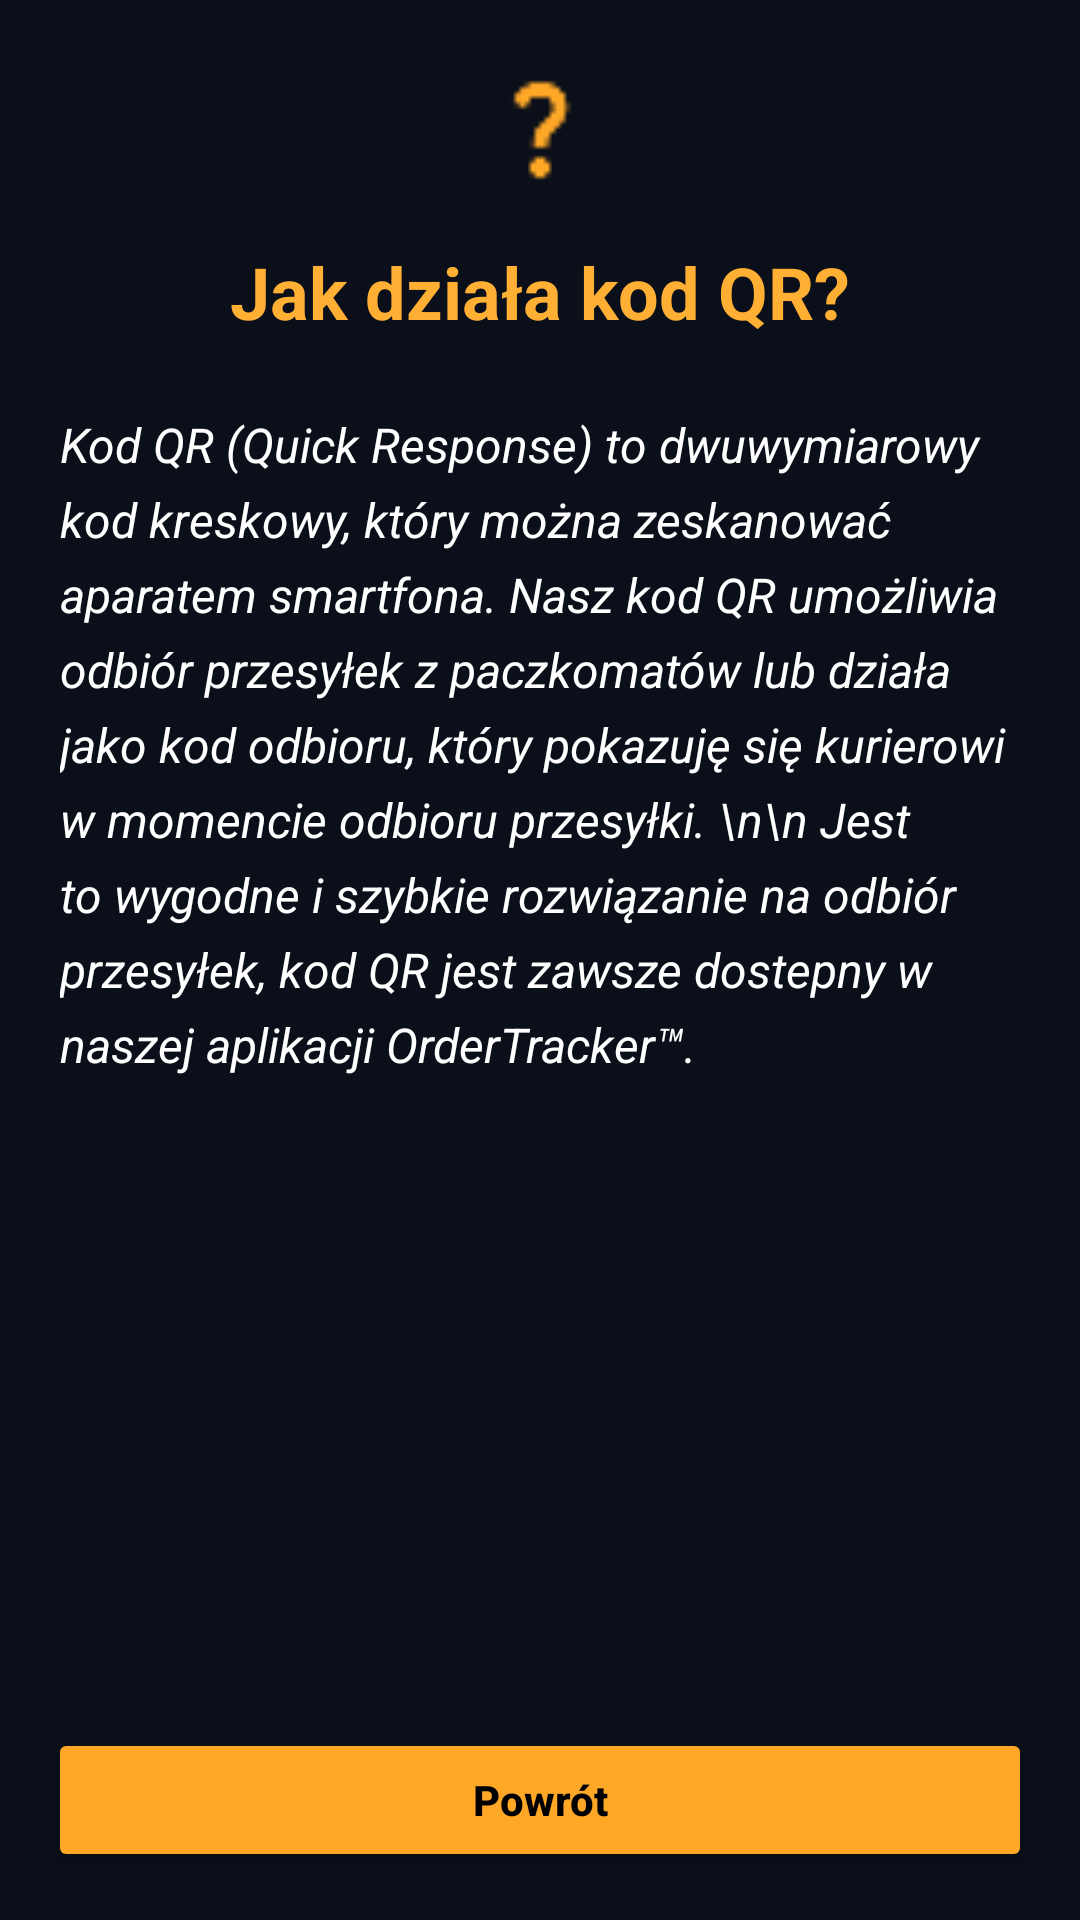

Screen size 1080x1920. Icon name, then its box in pixels as (x1, y1, x2, y2):
Ikona pytajnika: (513, 80, 571, 179)
